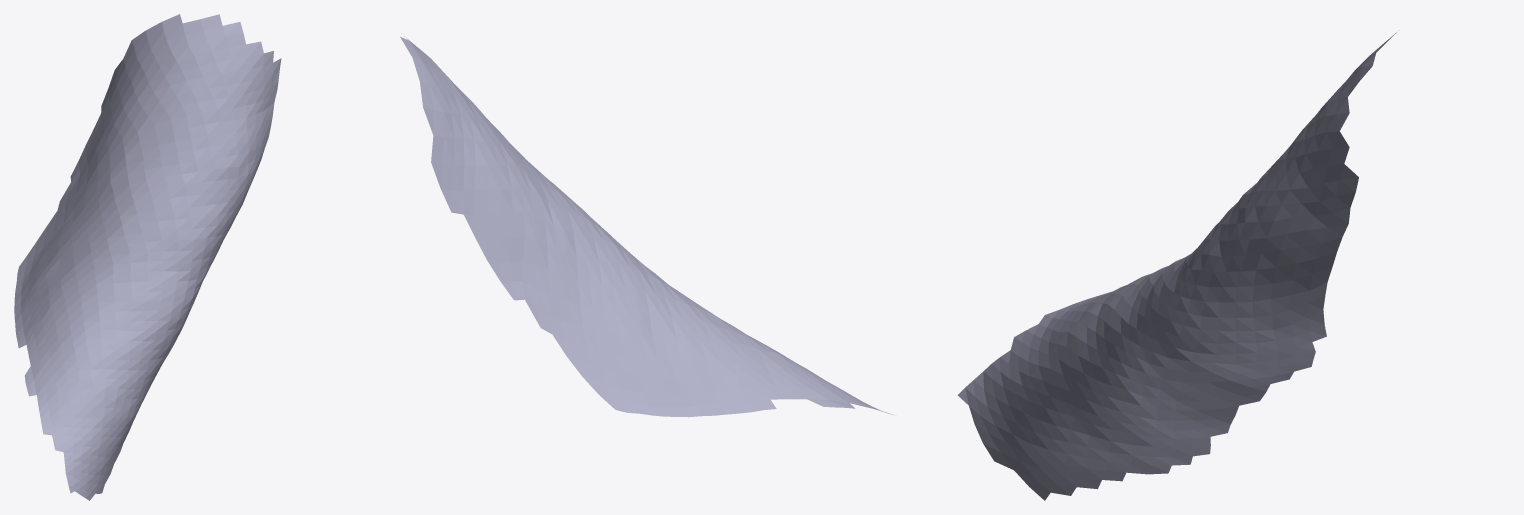
File: rh_transversetemporal.glb
3 renders of one model, left to right at view 1: azimuth 30°, elevation 25°; view 2: azimuth 150°, elevation 25°; view 3: azimuth 270°, elevation 25°, orthographic. The views are drawn at different scales.
Visible parts, largest first — view 1: world; view 2: world; view 3: world.
Part boxes in pixels (<box>): world: <box>14,14,281,500</box>; world: <box>400,33,892,417</box>; world: <box>957,30,1399,500</box>.
Bounding box in the file's own units: 21.06 × 22.18 × 17.03.
